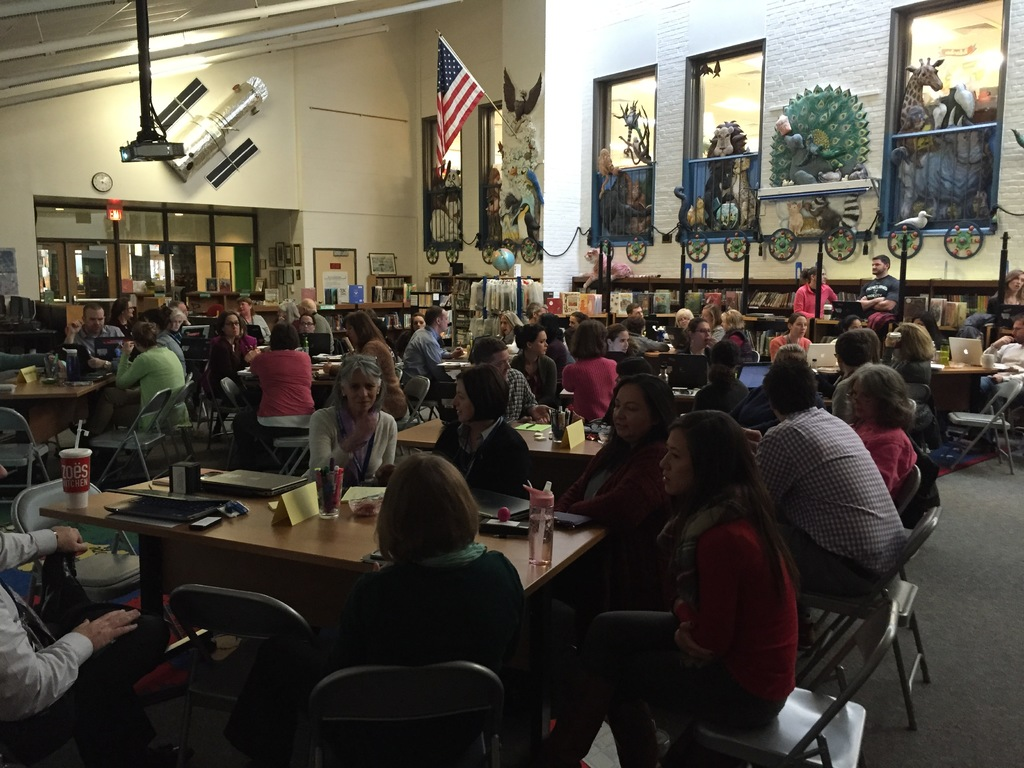Human_hand: (72, 603, 141, 655), (674, 621, 716, 666), (52, 524, 91, 559), (349, 413, 380, 451), (372, 462, 395, 487), (529, 403, 550, 425), (65, 321, 85, 336), (86, 359, 106, 371), (996, 336, 1015, 347), (121, 340, 134, 356), (747, 429, 763, 442), (452, 346, 465, 360), (993, 374, 1004, 385)
